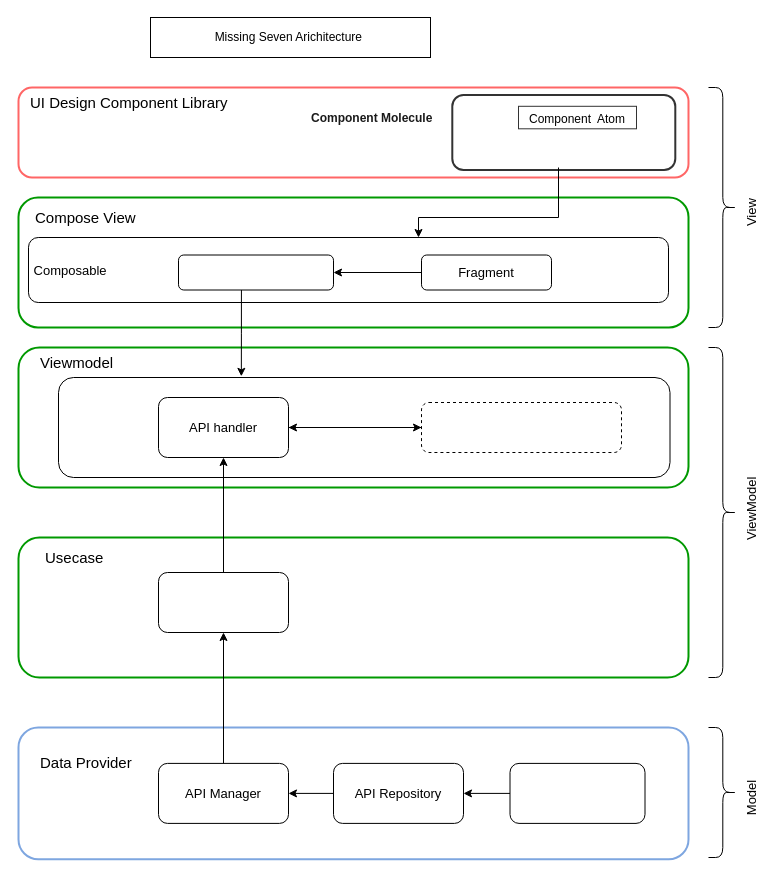
Some shapes in this 780 by 878 pixel diagram are drawn without their labels. The centre of each missing label's shape, as x and y in pixels:
Activity: point (256, 272)
DAO: point (577, 792)
Data Usecase: point (223, 602)
MutableState: point (521, 427)
